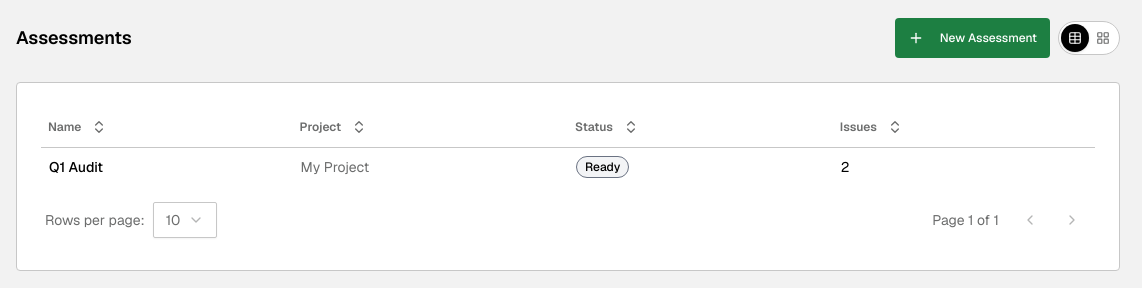
Test: AssessmentsListView › switches to grid view
The image size is (1142, 288).
Click the button named "grid view" at (1103, 38), box top-left (1089, 24), bottom-right (1117, 52)
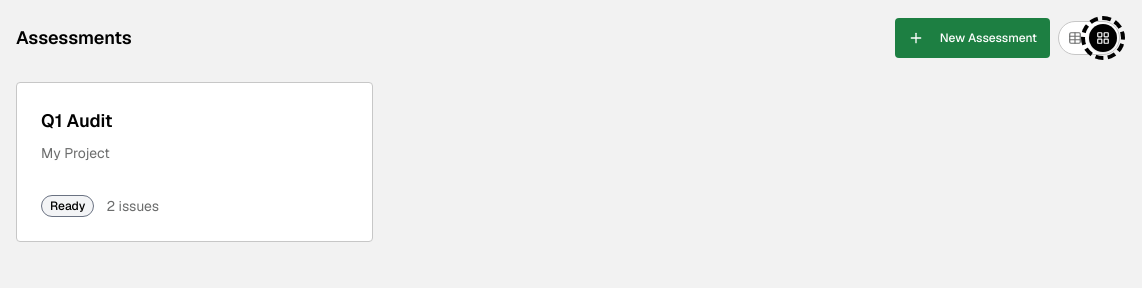
Expected: the text "Q1 Audit" is shown, top-left (41, 109), bottom-right (112, 132)
Result: the table is gone
